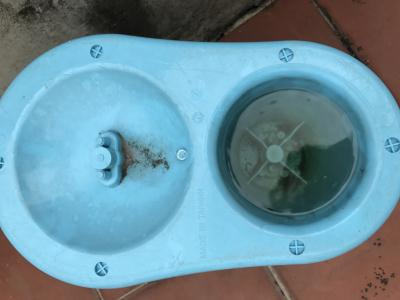bowl: (1, 31, 399, 294)
